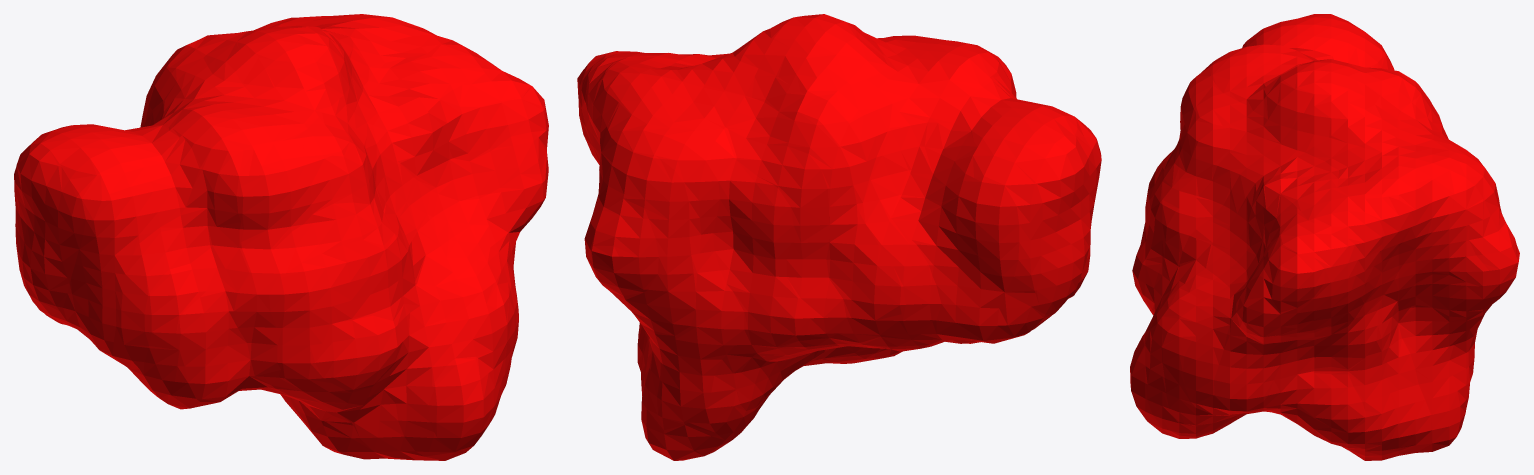
File: talB_coarse.dae
3 views of the same model, side by side, from view 1: azimuth 30°, elevation 25°; view 2: azimuth 150°, elevation 25°; view 3: azimuth 270°, elevation 25° (orthographic). The views are drawn at different scales.
Parts seen in each view (by area): view 1: talB; view 2: talB; view 3: talB.
Part boxes in pixels (box(x1,y1,x2,y2)): talB: box(14, 14, 548, 460); talB: box(577, 14, 1101, 460); talB: box(1130, 14, 1519, 460).
Bounding box in the file's own units: 66.36 × 51.22 × 50.78.
